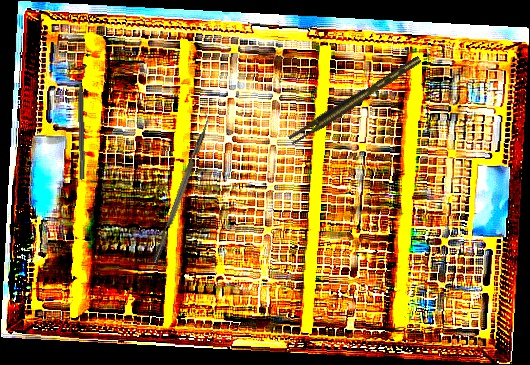Chopper: (144, 110, 215, 265)
Fixation Ring: (69, 64, 92, 180)
Tissue Forceps: (285, 55, 426, 146)
